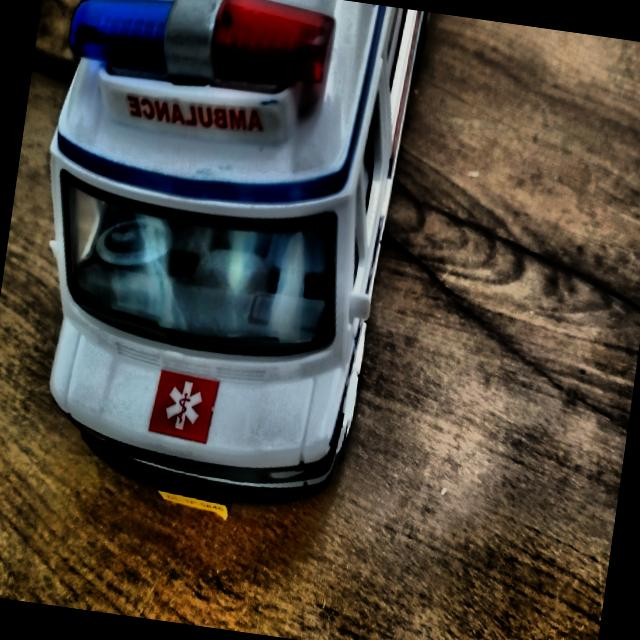Ambulance: (0, 0, 446, 552)
